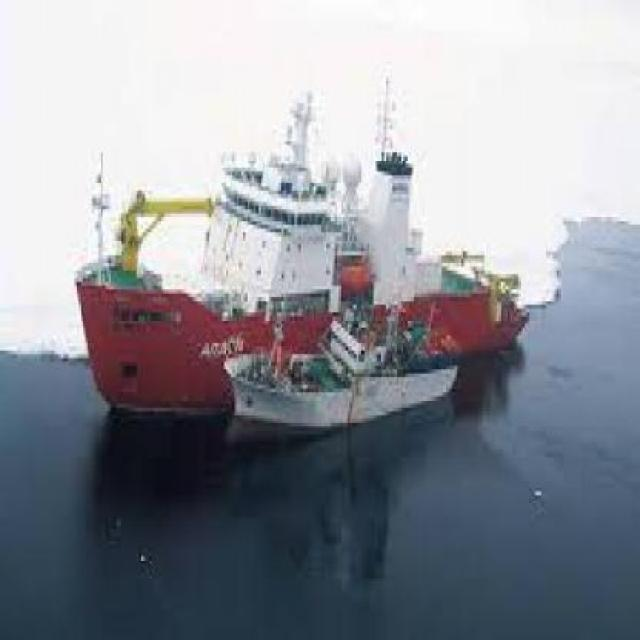fish-b: (67, 78, 543, 447)
